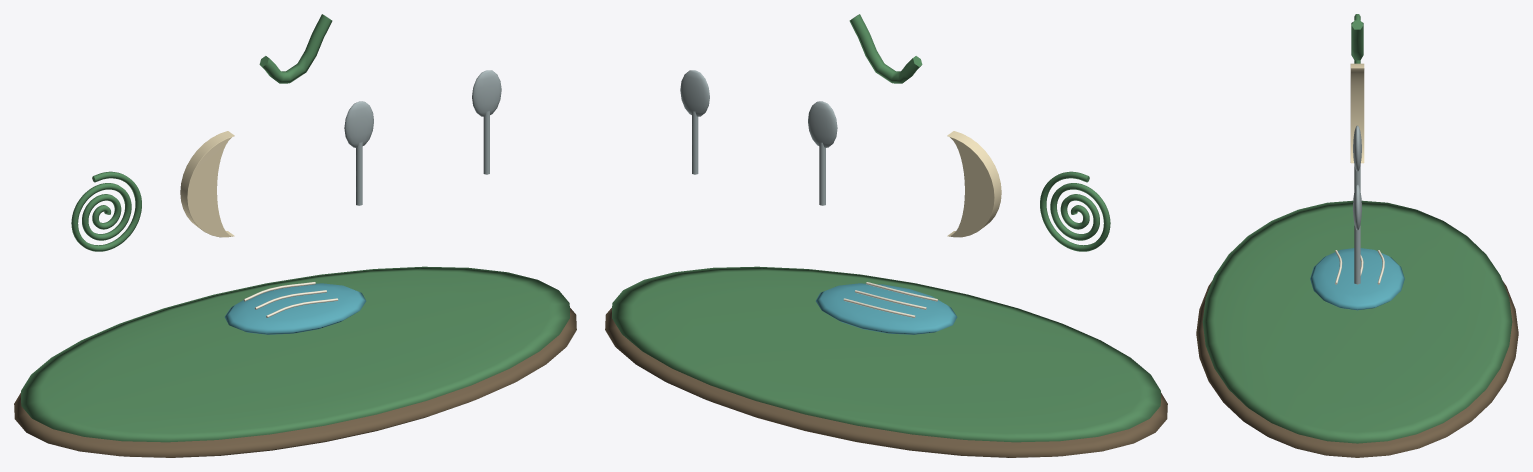
The model's file is complete-first-able-moon-tools.glb.
The picture shows the model from 3 angles, left to right: view 1: azimuth 30°, elevation 25°; view 2: azimuth 150°, elevation 25°; view 3: azimuth 270°, elevation 25°; orthographic projection. The views are drawn at different scales.
Parts seen in each view (by area): view 1: complete-first-able-moon-tools_surface_01, complete-first-able-moon-tools_surface_00, complete-first-able-moon-tools_surface_04, complete-first-able-moon-tools_surface_02, complete-first-able-moon-tools_surface_03, complete-first-able-moon-tools_surface_05; view 2: complete-first-able-moon-tools_surface_01, complete-first-able-moon-tools_surface_00, complete-first-able-moon-tools_surface_04, complete-first-able-moon-tools_surface_02, complete-first-able-moon-tools_surface_03, complete-first-able-moon-tools_surface_05; view 3: complete-first-able-moon-tools_surface_01, complete-first-able-moon-tools_surface_00, complete-first-able-moon-tools_surface_04, complete-first-able-moon-tools_surface_02, complete-first-able-moon-tools_surface_03.
Boxes of the visible parts, x1,y1,x2,y2 form: complete-first-able-moon-tools_surface_01: [21, 14, 569, 442]; complete-first-able-moon-tools_surface_00: [14, 308, 576, 457]; complete-first-able-moon-tools_surface_04: [224, 283, 366, 334]; complete-first-able-moon-tools_surface_02: [180, 131, 234, 237]; complete-first-able-moon-tools_surface_03: [344, 70, 501, 205]; complete-first-able-moon-tools_surface_05: [243, 282, 338, 317]; complete-first-able-moon-tools_surface_01: [612, 14, 1160, 442]; complete-first-able-moon-tools_surface_00: [605, 308, 1167, 457]; complete-first-able-moon-tools_surface_04: [815, 283, 957, 334]; complete-first-able-moon-tools_surface_02: [947, 131, 1001, 237]; complete-first-able-moon-tools_surface_03: [680, 70, 837, 205]; complete-first-able-moon-tools_surface_05: [843, 282, 937, 317]; complete-first-able-moon-tools_surface_01: [1202, 14, 1512, 443]; complete-first-able-moon-tools_surface_00: [1196, 280, 1518, 457]; complete-first-able-moon-tools_surface_04: [1310, 248, 1404, 310]; complete-first-able-moon-tools_surface_02: [1350, 63, 1364, 163]; complete-first-able-moon-tools_surface_03: [1353, 125, 1361, 284].
Bounding box in the file's own units: 4.56 × 2.92 × 2.5.
